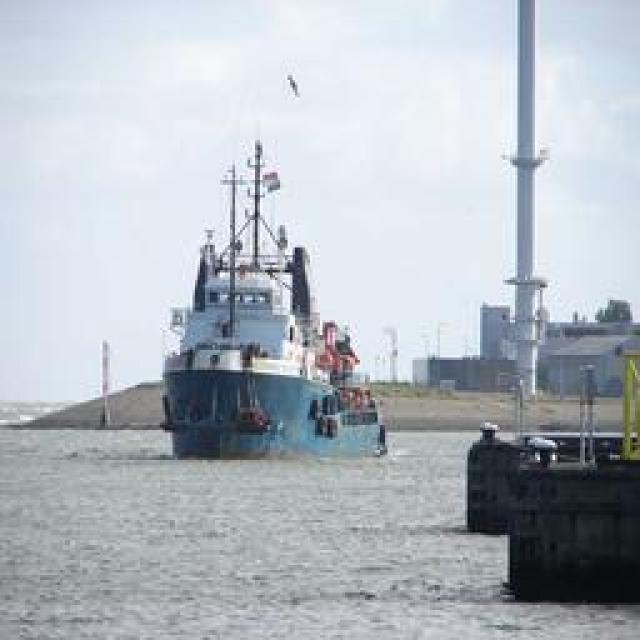ship2: (163, 141, 386, 461)
